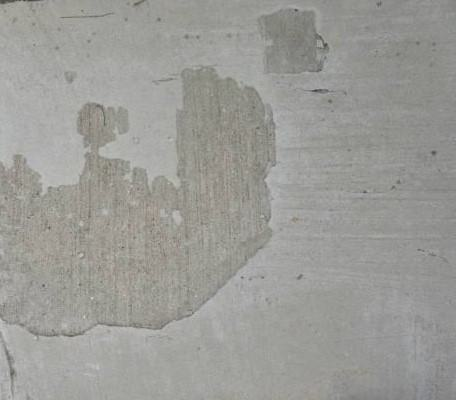Spalling: (1, 63, 278, 338), (257, 7, 331, 75)
